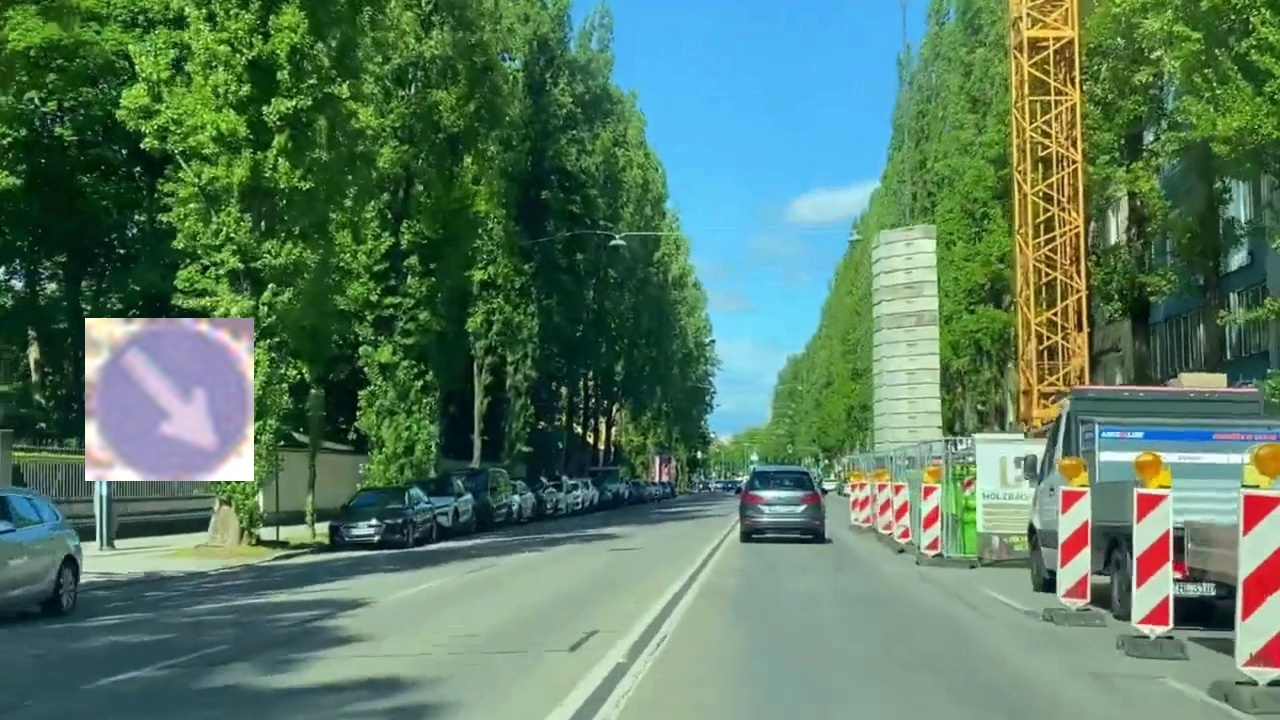Keep right: (85, 318, 254, 481)
